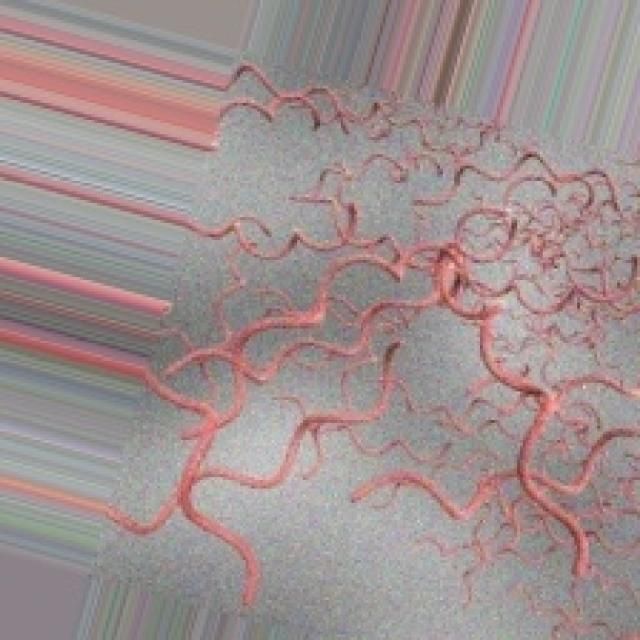Spiral_bacteria: (92, 60, 637, 637)
